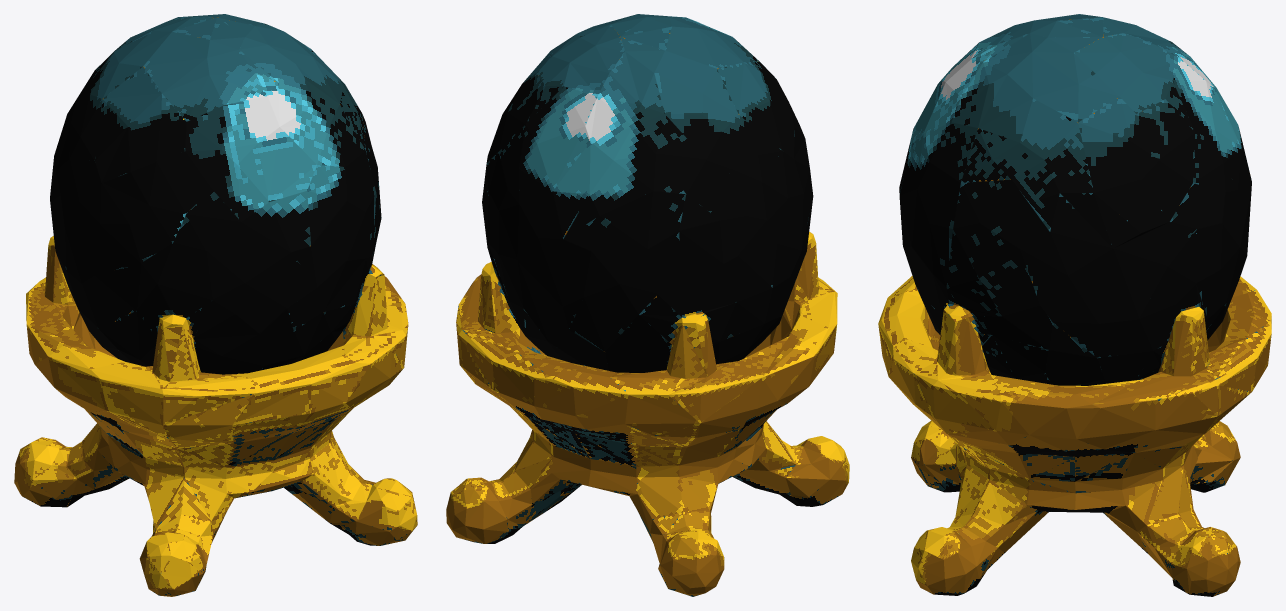
3 views of the same model, side by side, from view 1: azimuth 30°, elevation 25°; view 2: azimuth 150°, elevation 25°; view 3: azimuth 270°, elevation 25° (orthographic). The views are drawn at different scales.
Visible parts, largest first — view 1: OBJ117; view 2: OBJ117; view 3: OBJ117.
Part boxes in pixels (box(x1,y1,x2,y2)): OBJ117: box(14, 14, 417, 596); OBJ117: box(446, 14, 849, 596); OBJ117: box(878, 14, 1271, 596).
Size of the model in its own units: 0.2431 by 0.3423 by 0.2392.
1 material, 1 textured.
